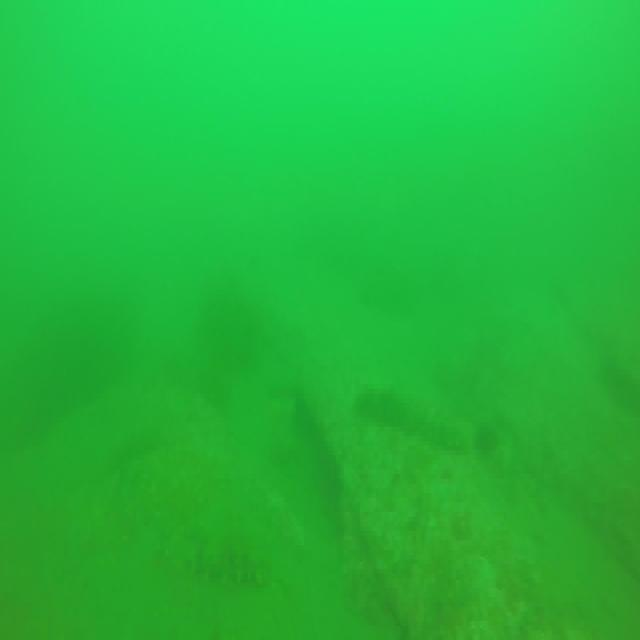holothurian: (360, 383, 462, 451), (192, 533, 276, 592)
